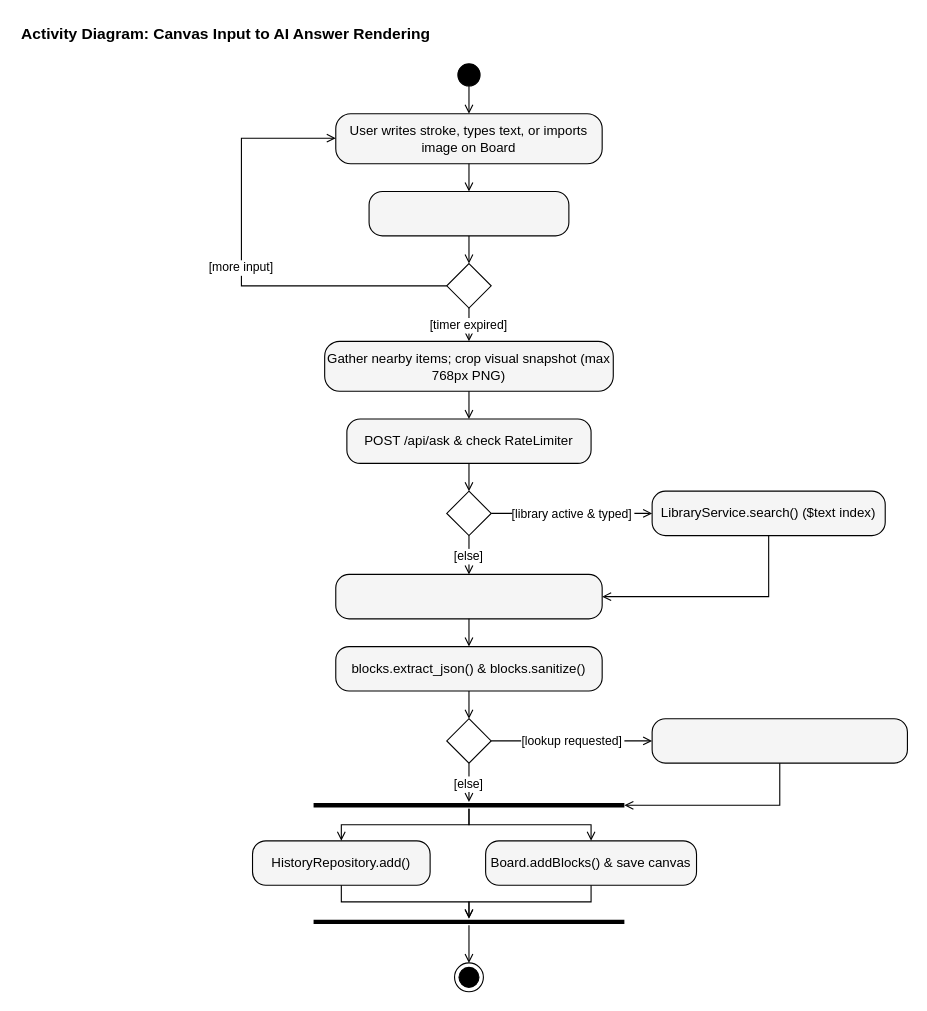
Some shapes in this 927 by 1011 pixel diagram are drawn without their labels. Each missing label, with the centre of its shape:
"Arm pause timer (2500 ms)" goes at (468,213).
"Build prompt & call LLMProvider.complete()" goes at (468,596).
"Second-pass text-only LLM call with excerpts" goes at (779,740).
